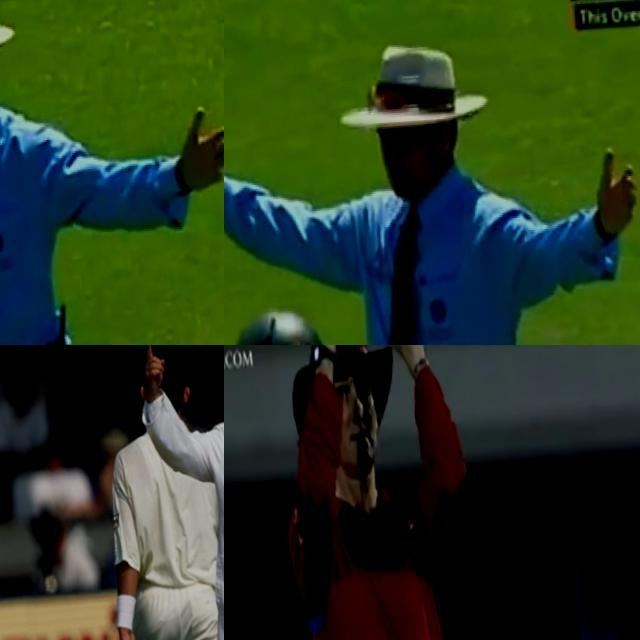No_Ball: (0, 0, 224, 345)
Out: (92, 345, 224, 640)
Six: (262, 345, 516, 640)
Wide: (224, 20, 640, 345)
